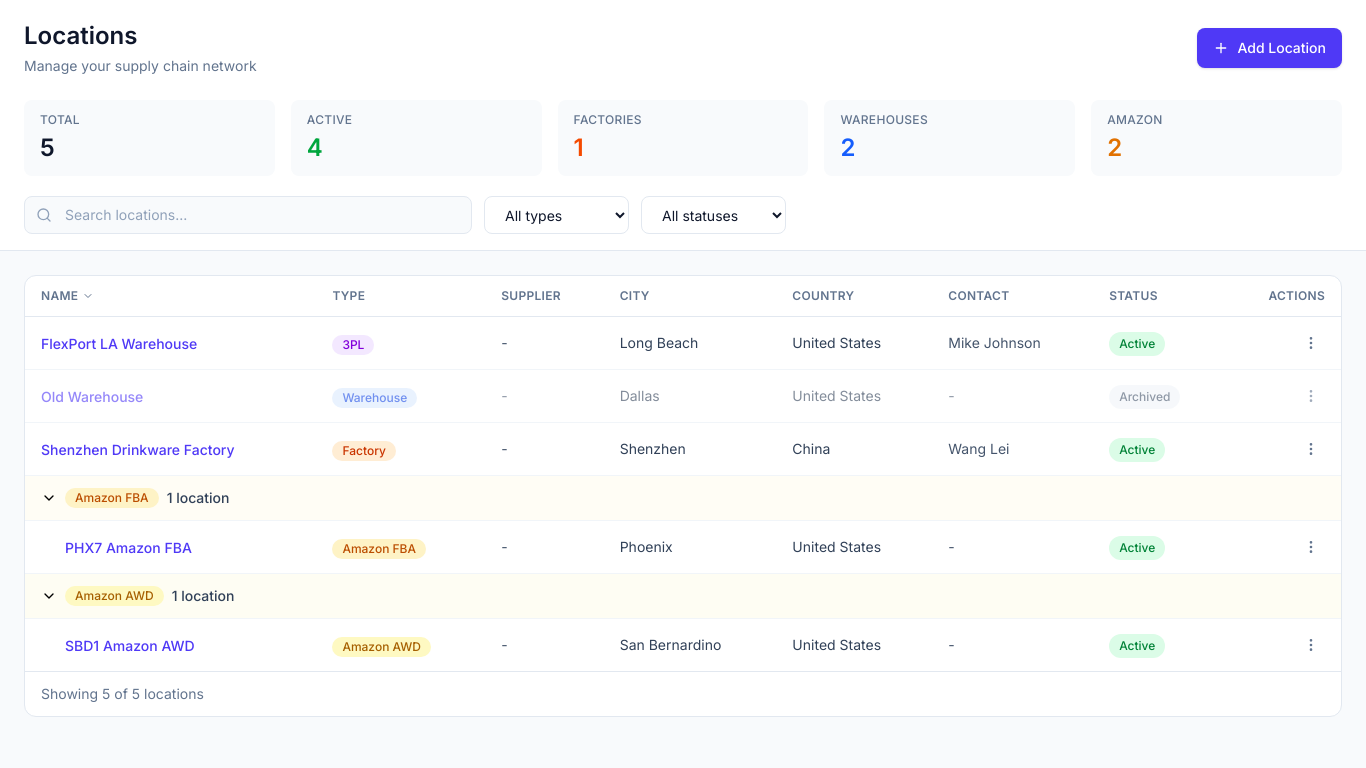
Locations - Filter by Type › filters locations by type
The image size is (1366, 768).
Select "Amazon FBA" in the dropdown named "filter by type": {"x": 556, "y": 215} [484, 196, 629, 234]
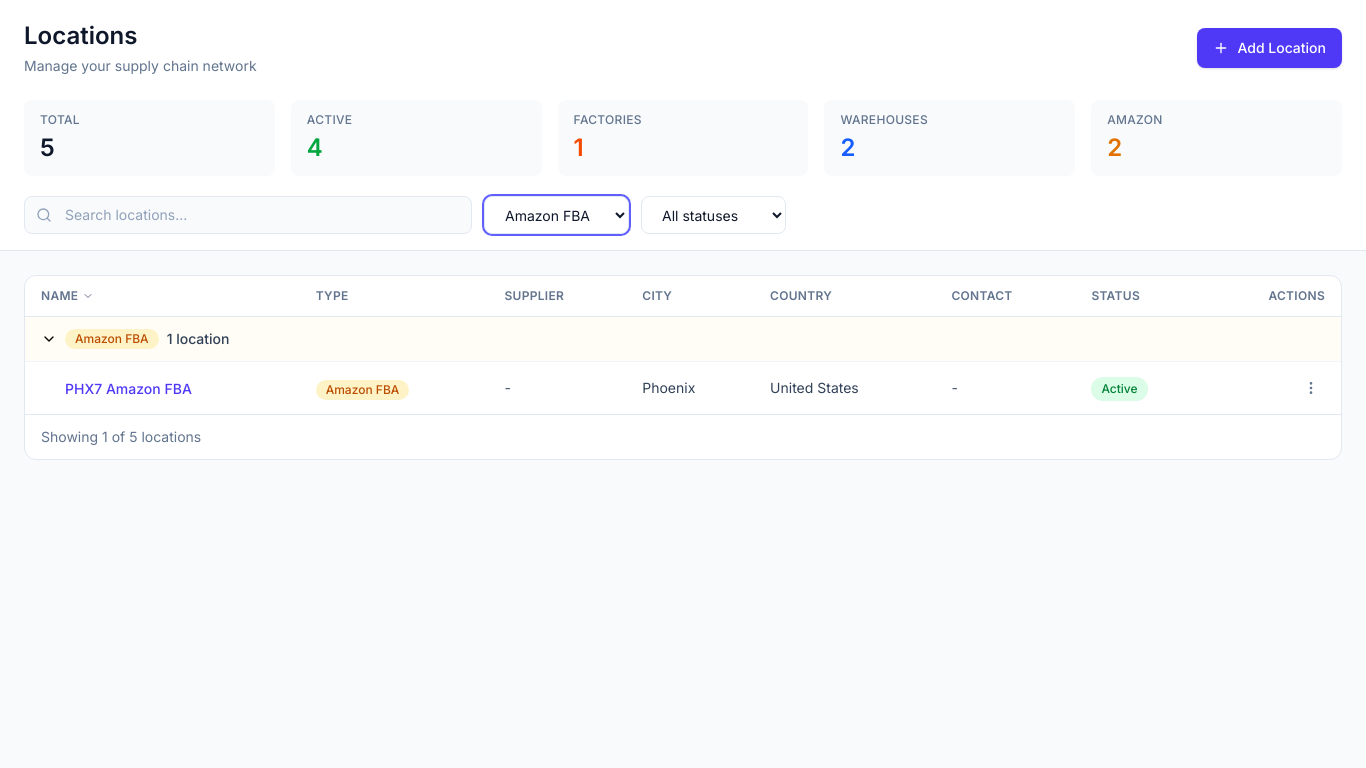
Check: the button "PHX7 Amazon FBA" is shown, box [65, 379, 192, 399]
Check: the button "Shenzhen Drinkware Factory" is gone
Check: the button "FlexPort LA Warehouse" is gone
